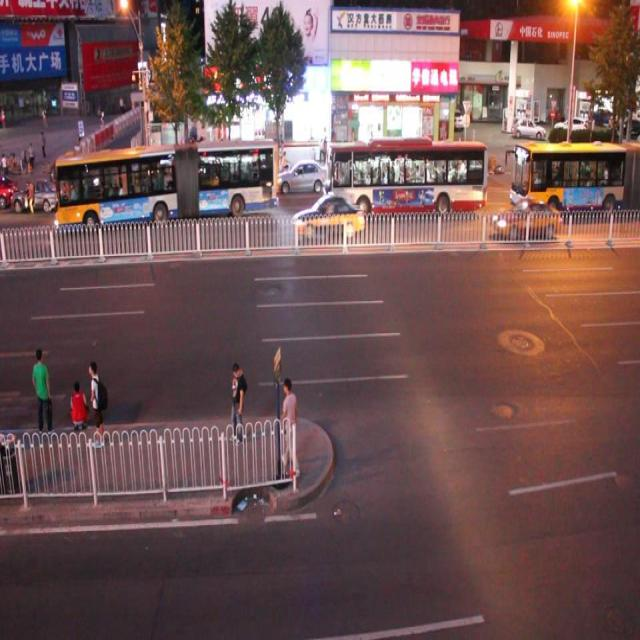car: (294, 194, 362, 238), (493, 202, 558, 239), (69, 174, 121, 218), (194, 159, 238, 201), (277, 160, 326, 196), (12, 180, 58, 212), (1, 173, 18, 209)
van: (54, 142, 277, 222), (324, 138, 485, 214), (511, 137, 640, 217)
